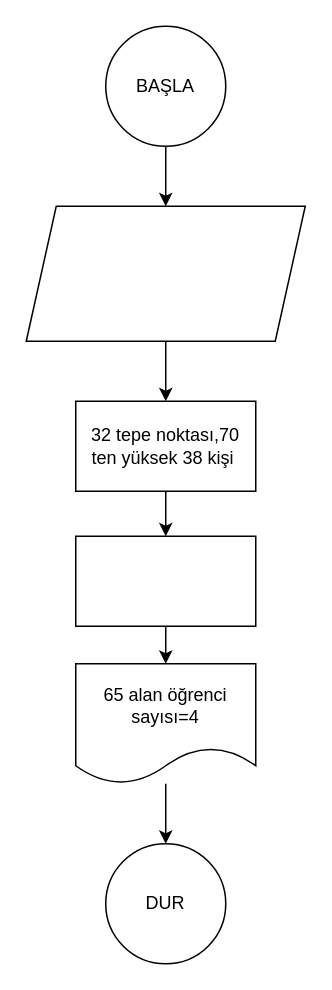
Some shapes in this 332 by 990 pixel diagram are drawn without their labels. The box of each missing label's shape, as (x1, y1, x2, y2) in pixels:
65 alan öğrenci sayısı=toplam öğrenci sayısı-65 almayanlar: (74, 535, 256, 626)
en çok tekrar eden değer tepe noktasıdır: (25, 205, 305, 341)
